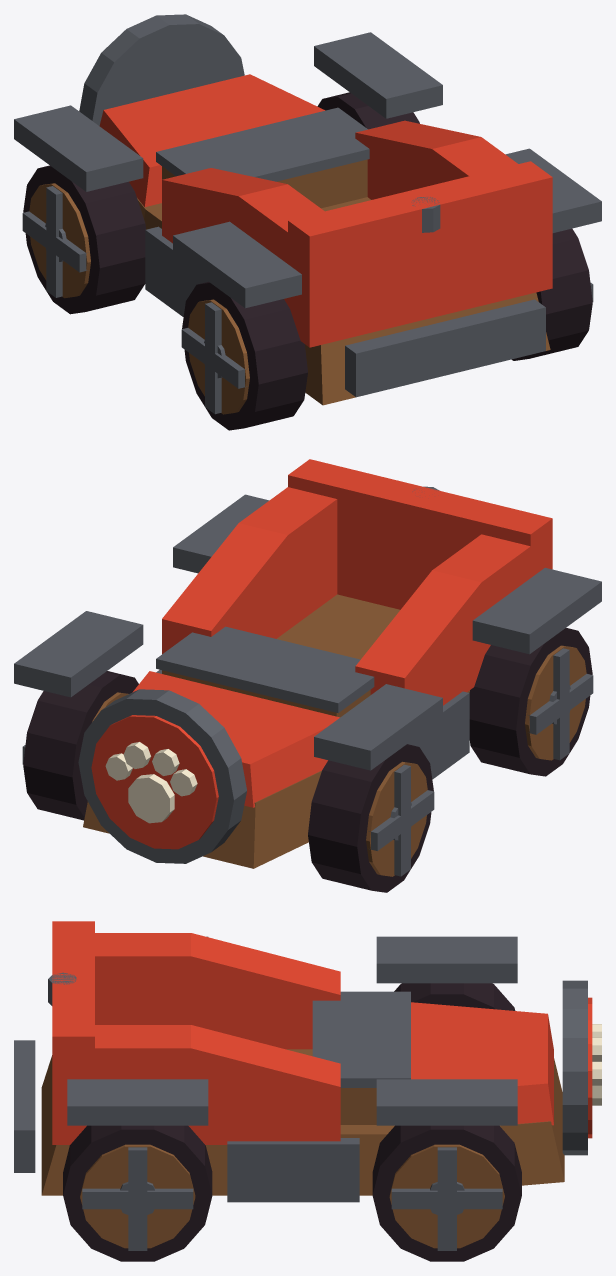
The model's file is veh_cart_armored.glb.
3 views of the same model, one above another, from view 1: azimuth 30°, elevation 25°; view 2: azimuth 150°, elevation 25°; view 3: azimuth 270°, elevation 25° (orthographic). The views are drawn at different scales.
Parts seen in each view (by area): view 1: Body, Wheel_FL, Wheel_RL, Wheel_RR, Wheel_FR; view 2: Body, Wheel_FL, Wheel_RL, Wheel_FR; view 3: Body, Wheel_FR, Wheel_RR, Wheel_FL.
Boxes of the visible parts, x1,y1,x2,y2 form: Body: (14, 14, 601, 405); Wheel_FL: (22, 165, 145, 314); Wheel_RL: (181, 281, 307, 430); Wheel_RR: (511, 228, 593, 360); Wheel_FR: (317, 92, 419, 129); Body: (14, 459, 601, 868); Wheel_FL: (308, 744, 434, 892); Wheel_RL: (469, 628, 593, 776); Wheel_FR: (22, 671, 138, 820); Body: (14, 921, 601, 1202); Wheel_FR: (372, 1125, 521, 1261); Wheel_RR: (63, 1125, 212, 1261); Wheel_FL: (394, 983, 515, 1010).
Size of the model in its own units: 1.88 by 1.05 by 2.75.
